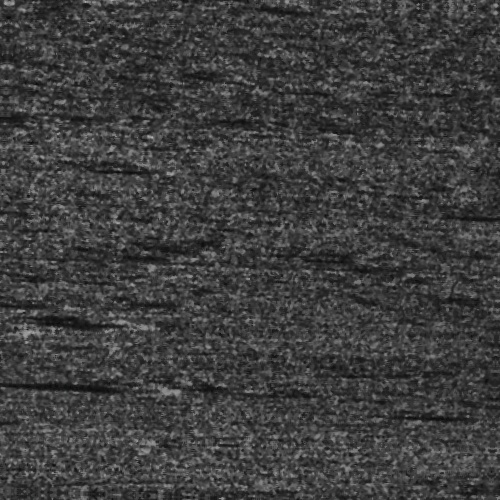object: (90, 376, 195, 405), (474, 406, 500, 411), (127, 323, 138, 330), (0, 337, 18, 340)
shadow: (0, 376, 142, 405), (30, 323, 132, 330), (400, 406, 500, 411)
